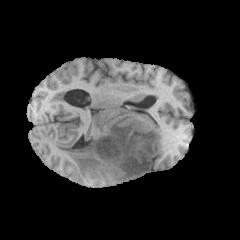glioma: (55, 105, 161, 182)
